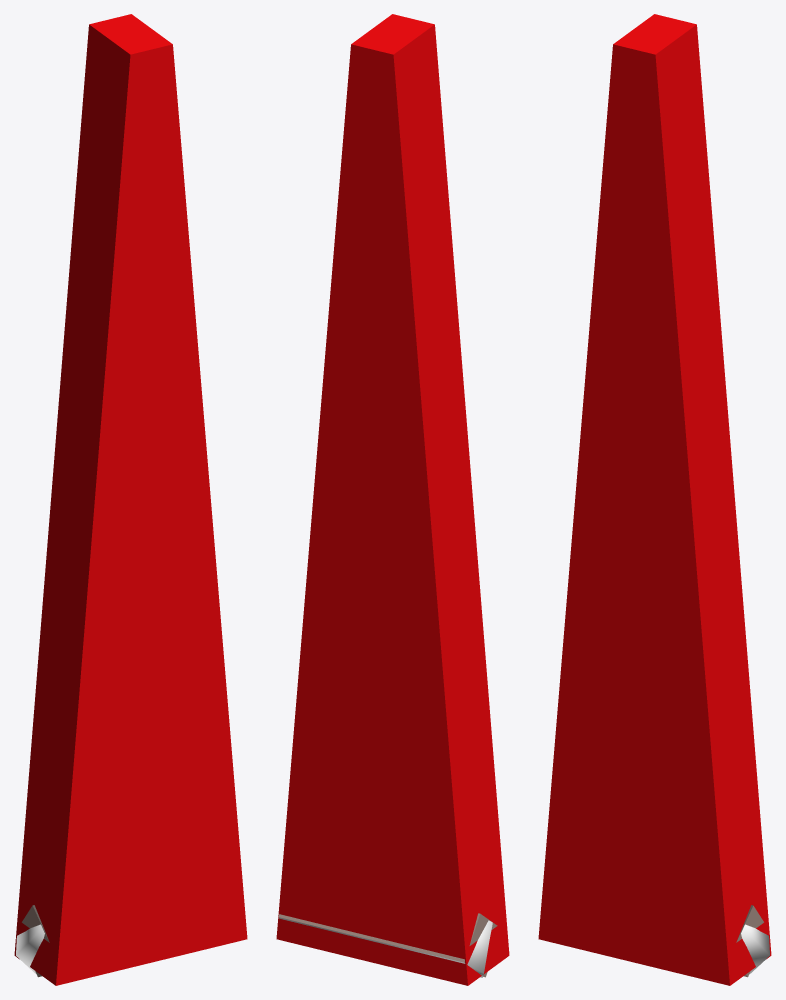
The model's file is clutter_workshop_broom.dae.
3 views of the same model, side by side, from view 1: azimuth 30°, elevation 25°; view 2: azimuth 150°, elevation 25°; view 3: azimuth 330°, elevation 25° (orthographic).
Visible parts, largest first — view 1: Colmesh_clutter_workshop_broom-1, clutter_workshop_broom_a100; view 2: Colmesh_clutter_workshop_broom-1, clutter_workshop_broom_a20, clutter_workshop_broom_a100; view 3: Colmesh_clutter_workshop_broom-1, clutter_workshop_broom_a100.
Boxes of the visible parts, x1,y1,x2,y2 form: Colmesh_clutter_workshop_broom-1: (14, 14, 247, 985); clutter_workshop_broom_a100: (16, 924, 44, 974); Colmesh_clutter_workshop_broom-1: (276, 14, 509, 985); clutter_workshop_broom_a20: (278, 913, 497, 977); clutter_workshop_broom_a100: (279, 917, 492, 977); Colmesh_clutter_workshop_broom-1: (538, 14, 771, 985); clutter_workshop_broom_a100: (741, 924, 769, 974).
Size of the model in its own units: 0.4046 by 0.1441 by 1.73.
